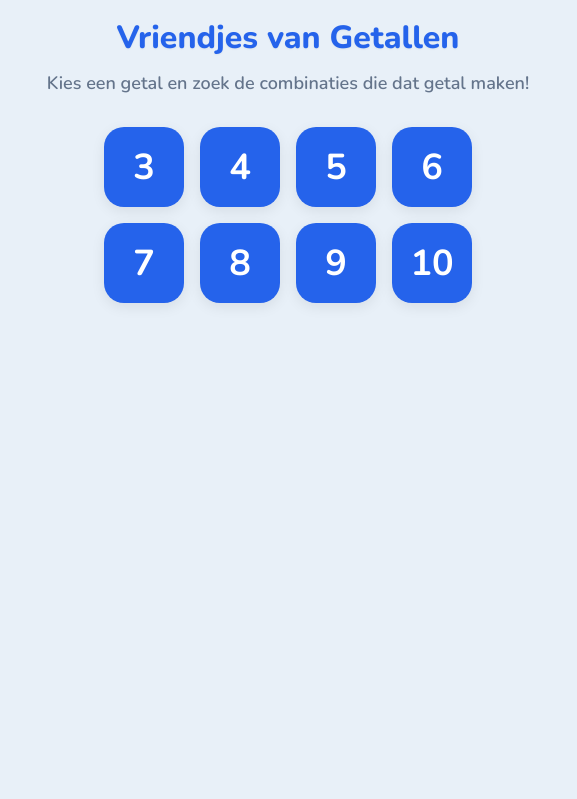
Scenario: App › terugknop gaat naar start
Click the button named "getal 5 kiezen".
click(336, 167)  # box [296,127,376,207]
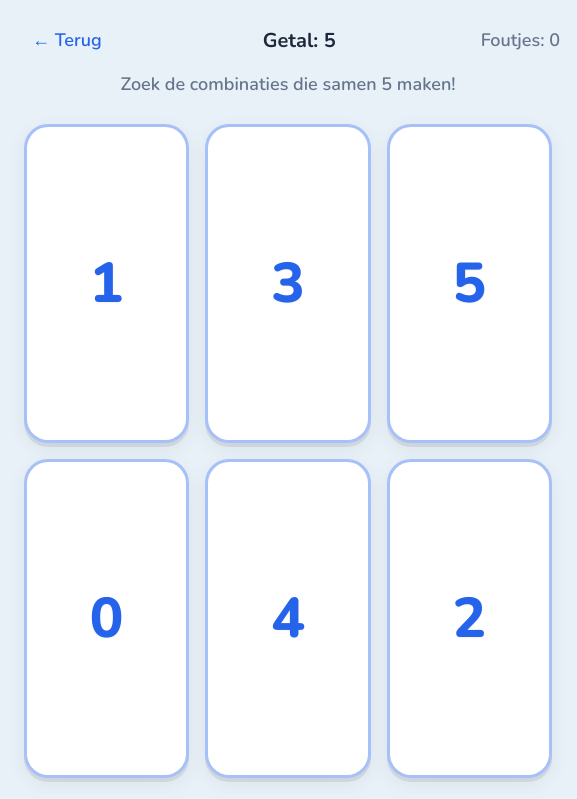
Click the button with aria-label "terug naar getalkeuze".
click(67, 40)  # box [16,16,118,64]
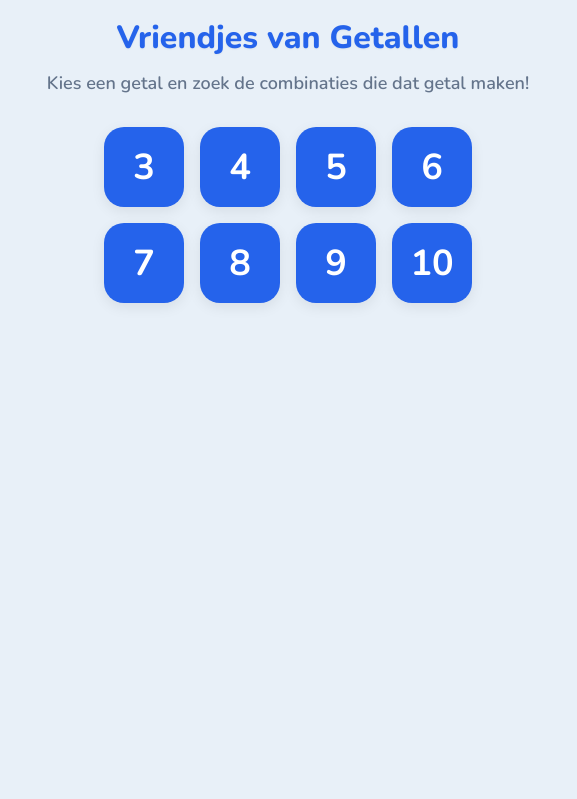
Expected: the heading "Vriendjes van Getallen" is shown, [117,16,459,59]
